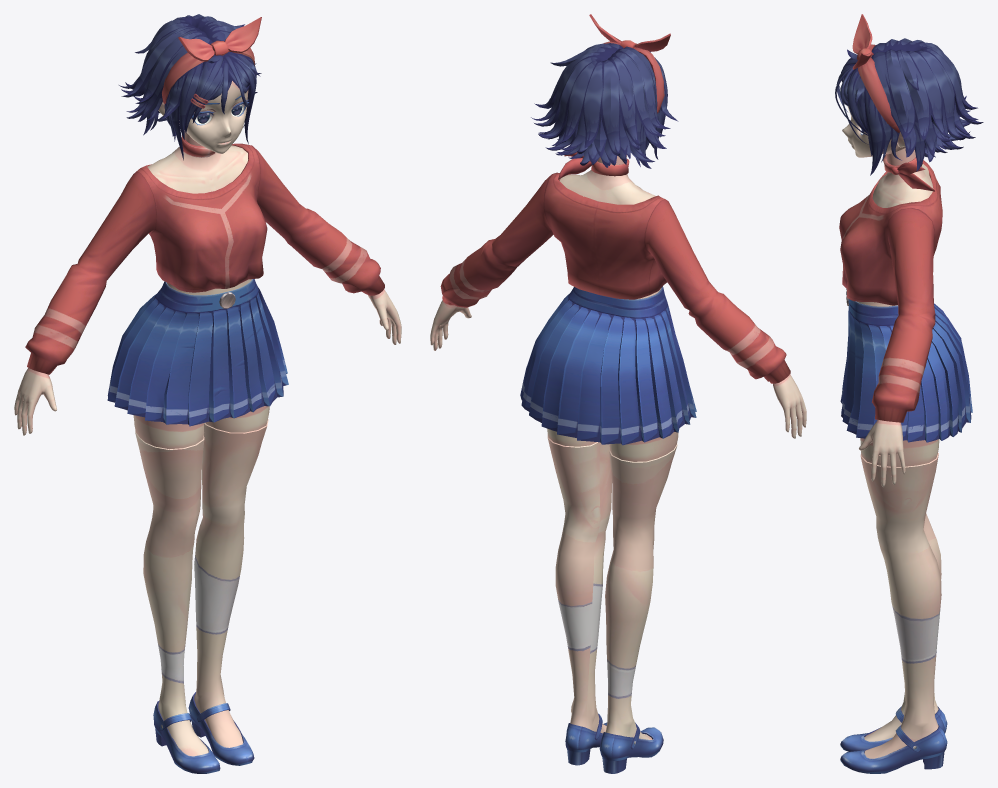
Rendered from short_hair_mita.glb.
3 renders of one model, left to right at view 1: azimuth 30°, elevation 25°; view 2: azimuth 150°, elevation 25°; view 3: azimuth 270°, elevation 25°, orthographic. The views are drawn at different scales.
Parts seen in each view (by area): view 1: Sweater_1_002, Pantyhose_001, Skirt_002, Hair_001, Body_001, Shoes_001, Head_1_001; view 2: Sweater_1_002, Pantyhose_001, Skirt_002, Hair_001, Body_001, Shoes_001; view 3: Sweater_1_002, Pantyhose_001, Hair_001, Skirt_002, Body_001, Shoes_001, Head_1_001.
Boxes of the visible parts, bbox=[...] form: Sweater_1_002: bbox=[25, 135, 384, 374]; Pantyhose_001: bbox=[135, 419, 268, 756]; Skirt_002: bbox=[107, 279, 288, 426]; Hair_001: bbox=[119, 14, 261, 160]; Body_001: bbox=[14, 131, 401, 449]; Shoes_001: bbox=[153, 692, 254, 773]; Head_1_001: bbox=[158, 81, 249, 153]; Sweater_1_002: bbox=[440, 152, 790, 383]; Pantyhose_001: bbox=[547, 434, 677, 739]; Skirt_002: bbox=[520, 286, 696, 445]; Hair_001: bbox=[531, 14, 678, 168]; Body_001: bbox=[430, 155, 806, 461]; Shoes_001: bbox=[565, 713, 663, 773]; Sweater_1_002: bbox=[839, 155, 942, 422]; Pantyhose_001: bbox=[860, 453, 941, 758]; Hair_001: bbox=[835, 14, 983, 175]; Skirt_002: bbox=[840, 288, 972, 442]; Body_001: bbox=[857, 148, 939, 487]; Shoes_001: bbox=[840, 706, 947, 773]; Head_1_001: bbox=[842, 106, 905, 157].
Bounding box in the file's own units: 1.76 × 3.31 × 0.6168.
4 materials, 4 textured.
